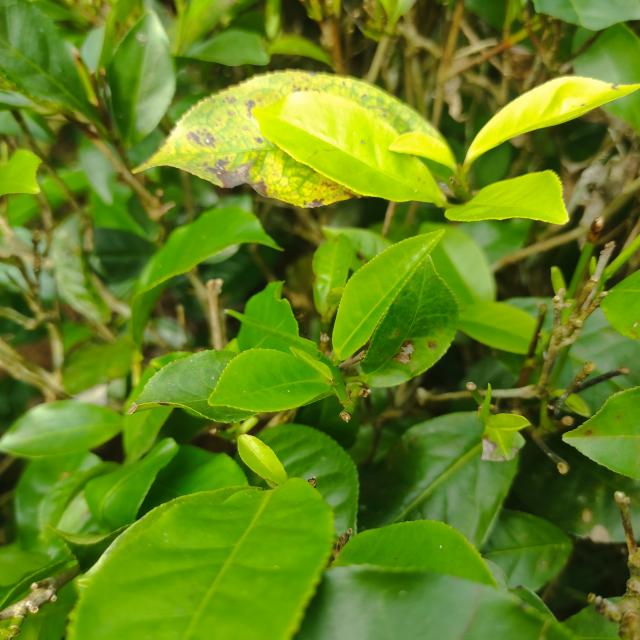unopened_leaf: (214, 302, 360, 408), (586, 231, 640, 294)
